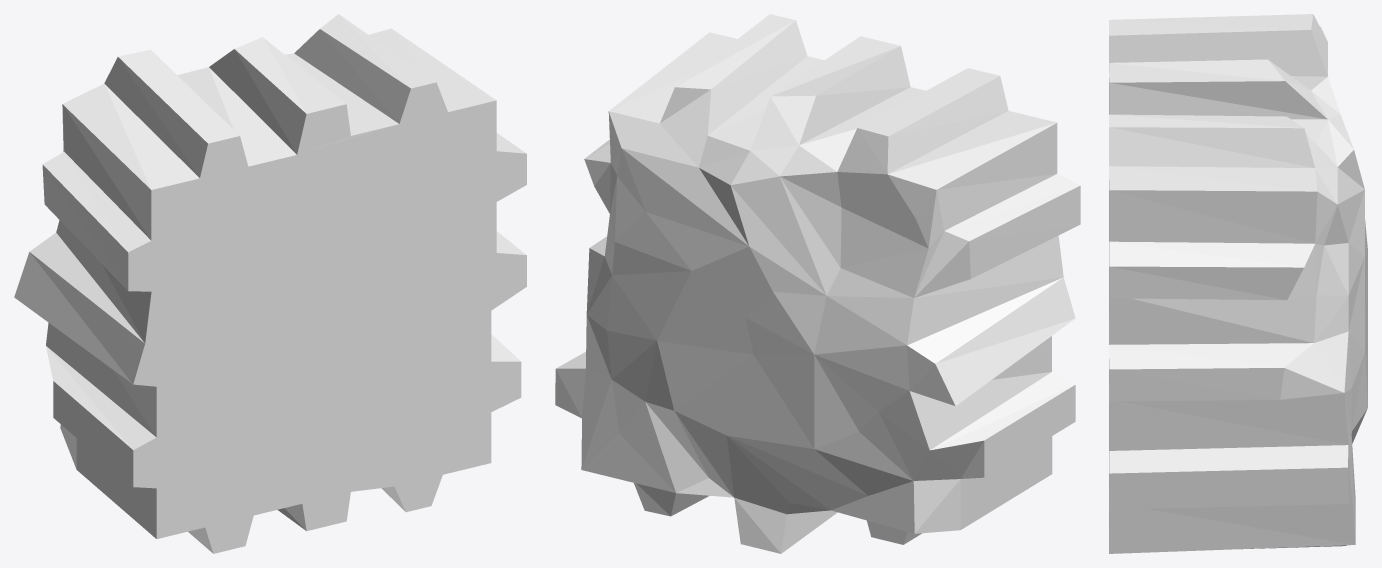
File: venice_col_obj_8.fbx
The picture shows the model from 3 angles, left to right: view 1: azimuth 30°, elevation 25°; view 2: azimuth 150°, elevation 25°; view 3: azimuth 270°, elevation 25°; orthographic projection.
Visible parts, largest first — view 1: Cube.375; view 2: Cube.375; view 3: Cube.375.
Boxes of the visible parts, <box> form: Cube.375: <box>14,14,526,553</box>; Cube.375: <box>555,14,1080,553</box>; Cube.375: <box>1109,14,1367,553</box>.
Size of the model in its own units: 341 by 347 by 187.
